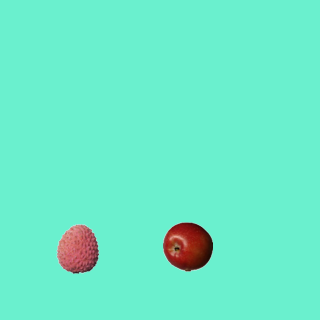Apple Braeburn: (162, 221, 212, 271)
Lychee: (52, 223, 102, 273)
